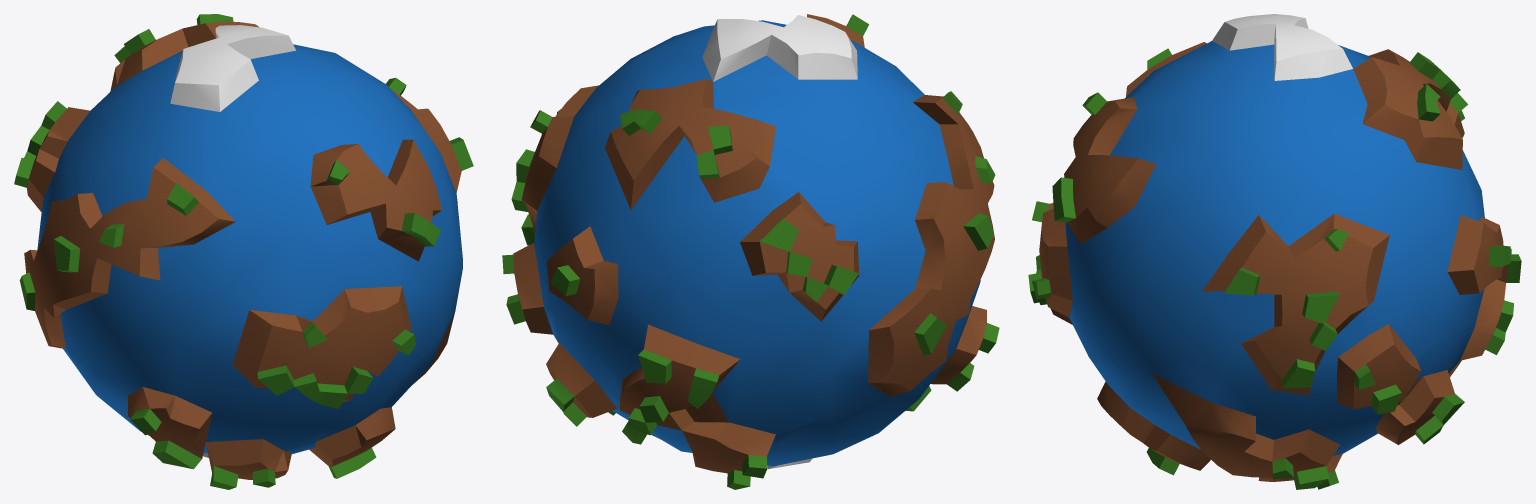
The model's file is Planeta_Tierra.fbx.
3 views of the same model, side by side, from view 1: azimuth 30°, elevation 25°; view 2: azimuth 150°, elevation 25°; view 3: azimuth 270°, elevation 25° (orthographic). The views are drawn at different scales.
Visible parts, largest first — view 1: Toy_Planet_1; view 2: Toy_Planet_1; view 3: Toy_Planet_1.
Part boxes in pixels (x1,y1,x2,y2): Toy_Planet_1: [14, 14, 473, 489]; Toy_Planet_1: [502, 14, 999, 489]; Toy_Planet_1: [1028, 14, 1521, 489].
Bounding box in the file's own units: 209 × 201 × 213.
